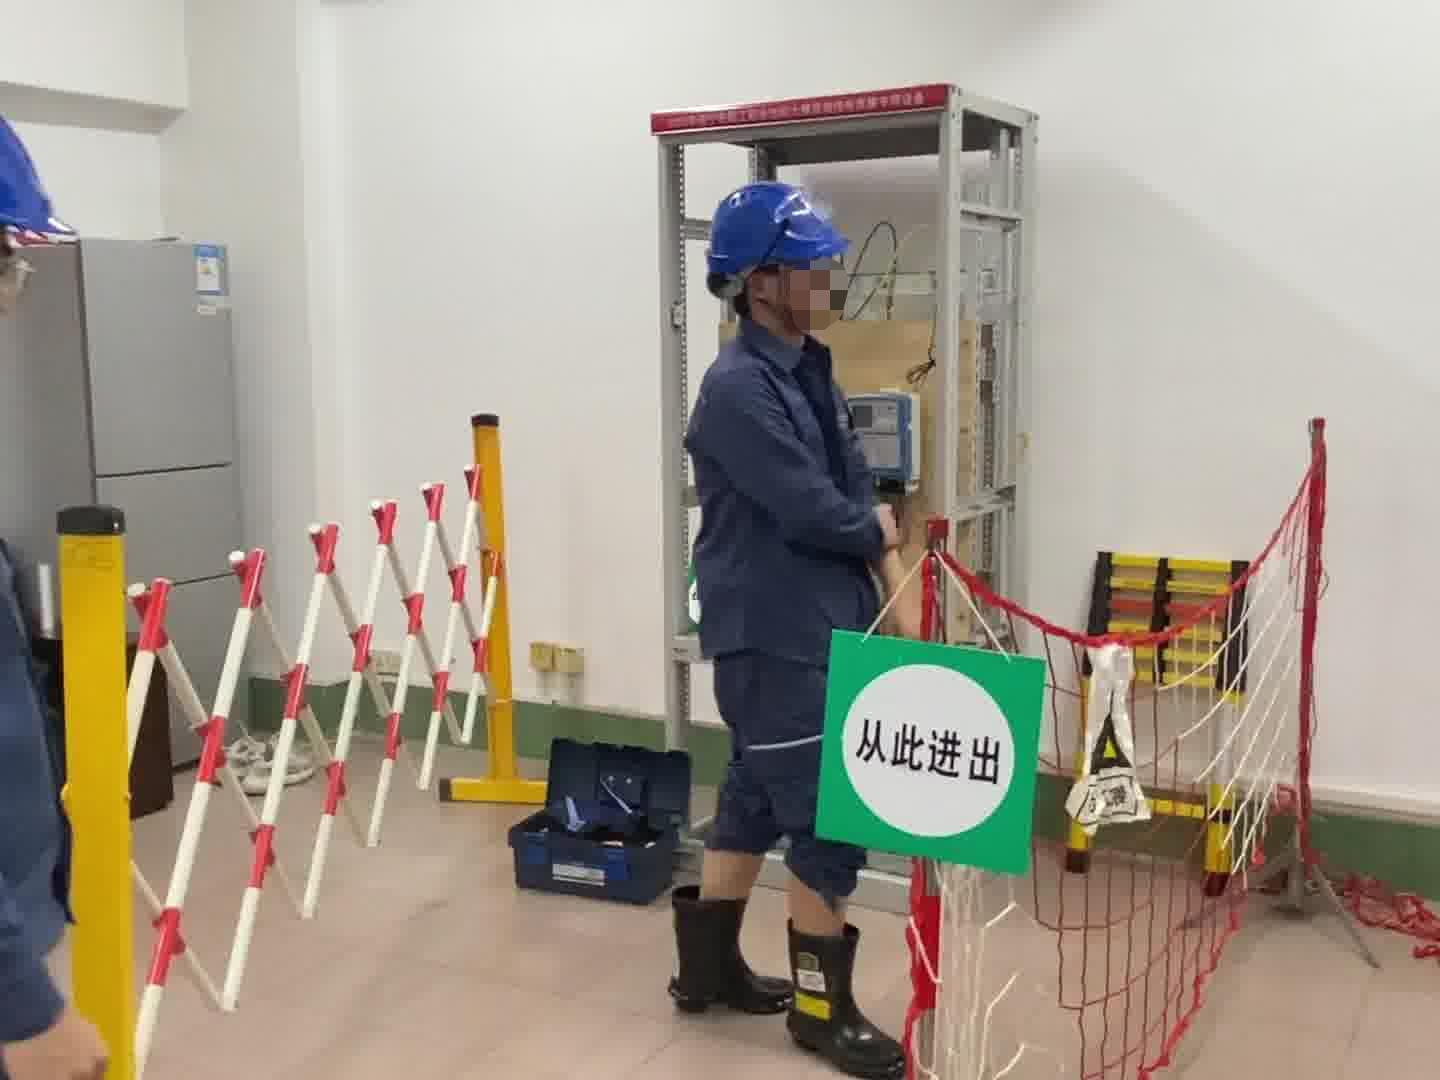halt: (704, 182, 856, 338), (3, 94, 74, 337)
inear: (732, 265, 802, 327)
